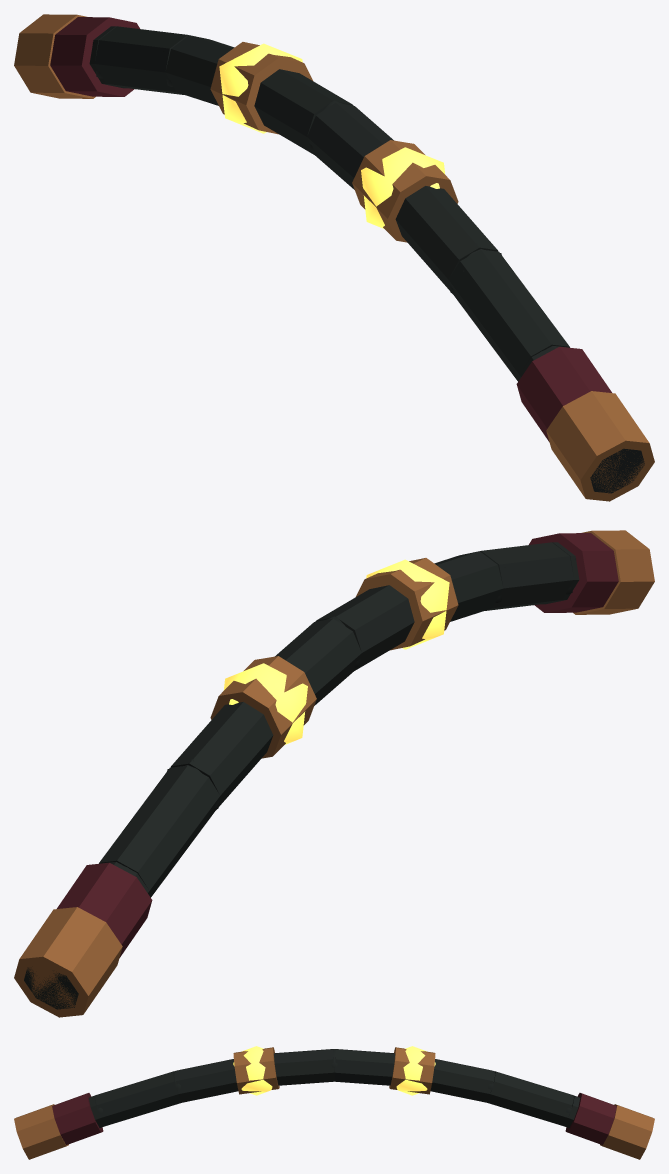
The model's file is ally_husk_lead.glb.
3 views of the same model, one above another, from view 1: azimuth 30°, elevation 25°; view 2: azimuth 150°, elevation 25°; view 3: azimuth 270°, elevation 25° (orthographic). The views are drawn at different scales.
Parts seen in each view (by area): view 1: LeadMesh; view 2: LeadMesh; view 3: LeadMesh.
Part boxes in pixels (x1,y1,x2,y2): LeadMesh: (14,14,654,501); LeadMesh: (14,530,654,1017); LeadMesh: (14,1046,654,1159).
Bounding box in the file's own units: 0.0787 × 0.1994 × 1.03.
